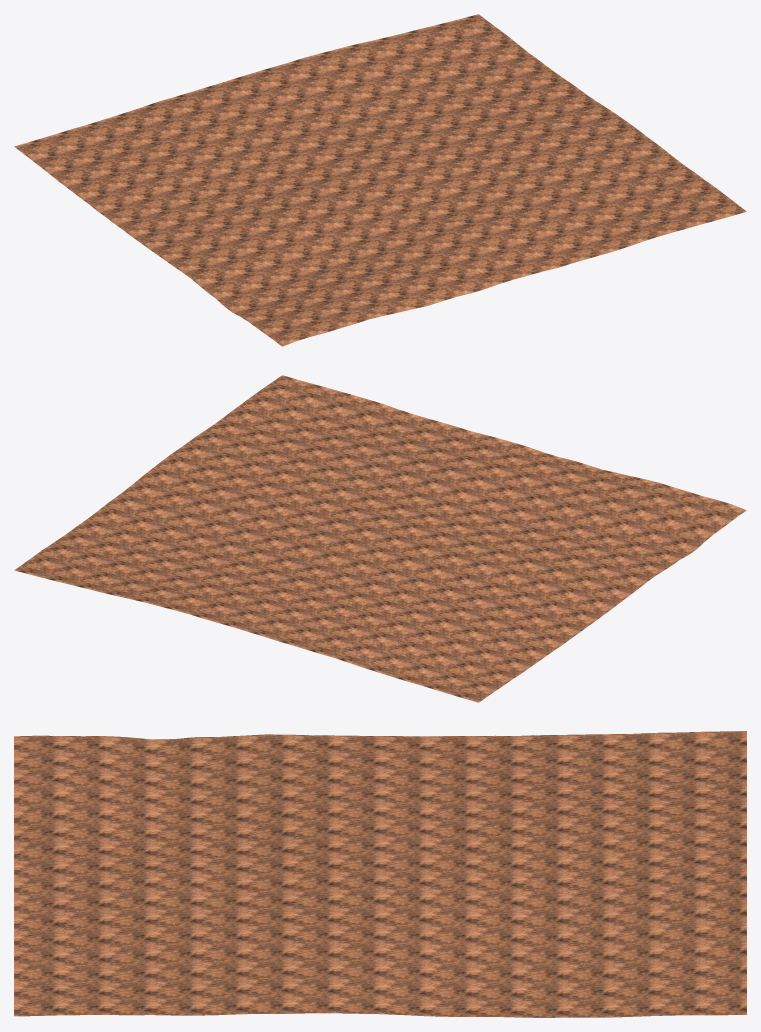
Rendered from terrain_09_09.dae.
3 views of the same model, one above another, from view 1: azimuth 30°, elevation 25°; view 2: azimuth 150°, elevation 25°; view 3: azimuth 270°, elevation 25° (orthographic). The views are drawn at different scales.
Visible parts, largest first — view 1: terrain_09_09-node; view 2: terrain_09_09-node; view 3: terrain_09_09-node.
Part boxes in pixels (x1,y1,x2,y2): terrain_09_09-node: (14,14,746,346); terrain_09_09-node: (14,375,746,702); terrain_09_09-node: (14,731,746,1017).
Bounding box in the file's own units: 128 × 128 × 6.91.
Materials: 1 (1 with a texture image).
